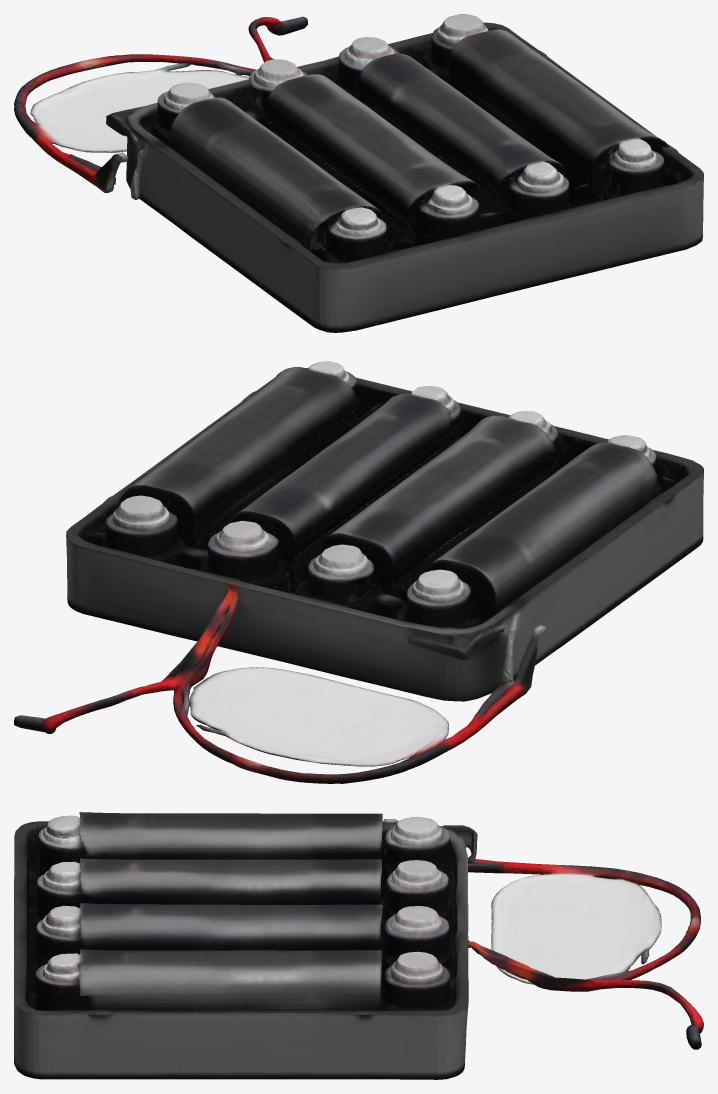
The model's file is battery_holder_4xAA.glb.
3 renders of one model, top to bottom at view 1: azimuth 30°, elevation 25°; view 2: azimuth 150°, elevation 25°; view 3: azimuth 270°, elevation 25°, orthographic. The views are drawn at different scales.
Visible parts, largest first — view 1: world; view 2: world; view 3: world.
Boxes of the visible parts, left/top/right/bottom form: world: left=14, top=14, right=703, bottom=332; world: left=14, top=361, right=703, bottom=783; world: left=14, top=812, right=703, bottom=1079.
Size of the model in its own units: 0.7129 by 0.1672 by 0.9987.
1 material, 1 textured.
